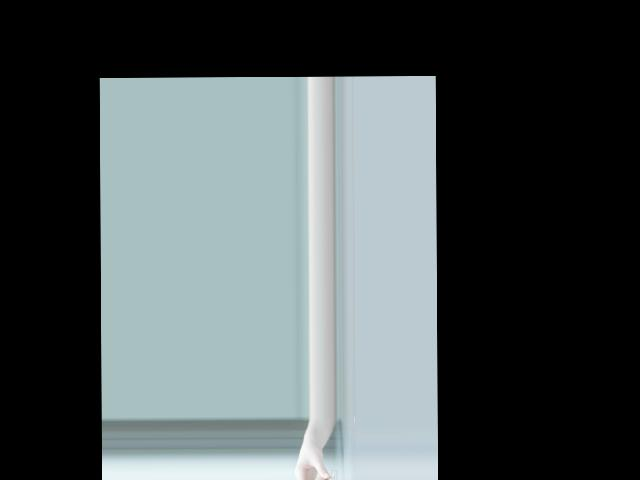egg: (310, 476, 332, 480)
